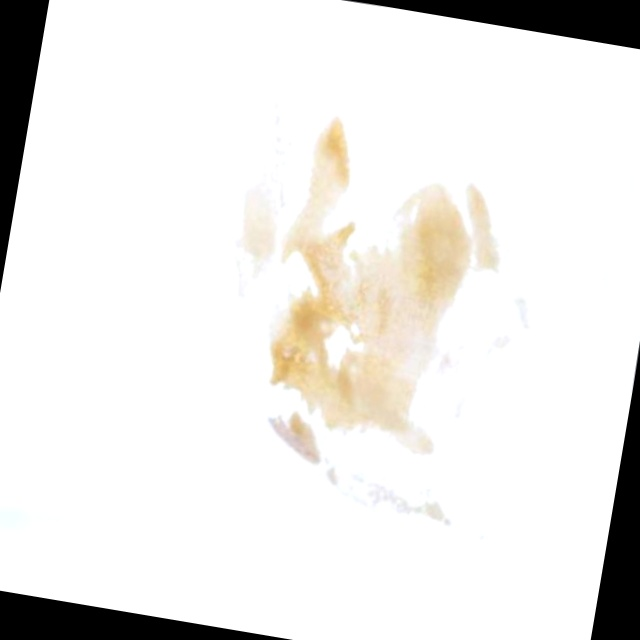coffee: (258, 115, 501, 465), (222, 107, 300, 304)
